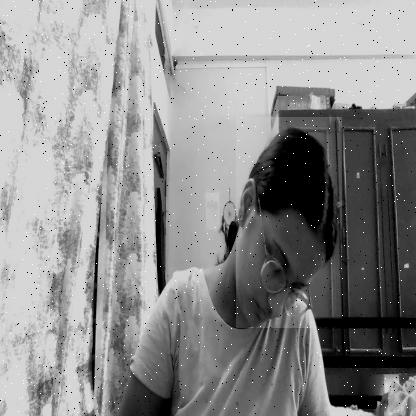Distracted: (236, 117, 342, 328)
